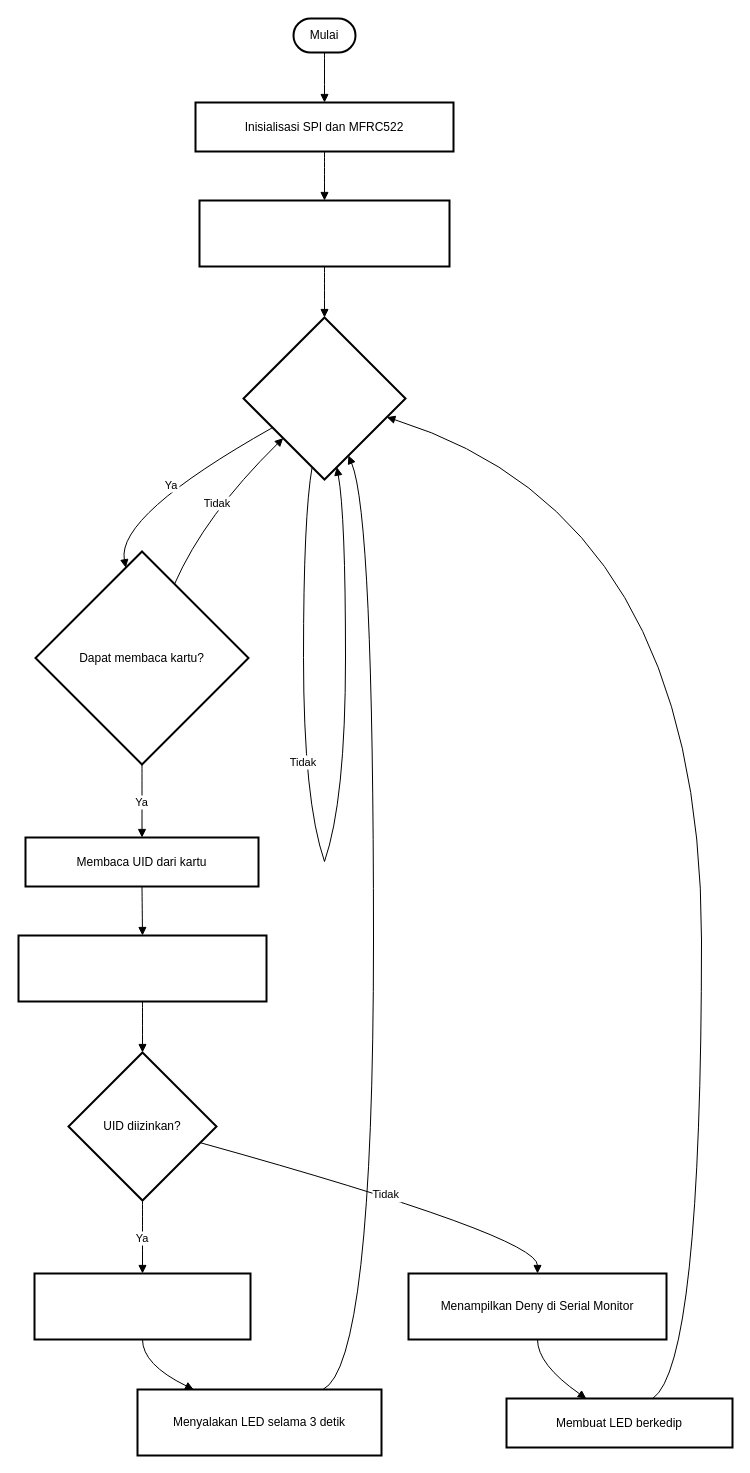
The diagram is 750 pixels wide and 1473 high, and some of its shapes have lost their labels. The centre of each missing label's shape, as x and y in pixels:
Ada kartu baru?: (324,398)
Menampilkan Allow di Serial Monitor: (142,1306)
Menampilkan UID di Serial Monitor: (142,968)
Pesan: Tempatkan kartu di RFID: (324,233)
